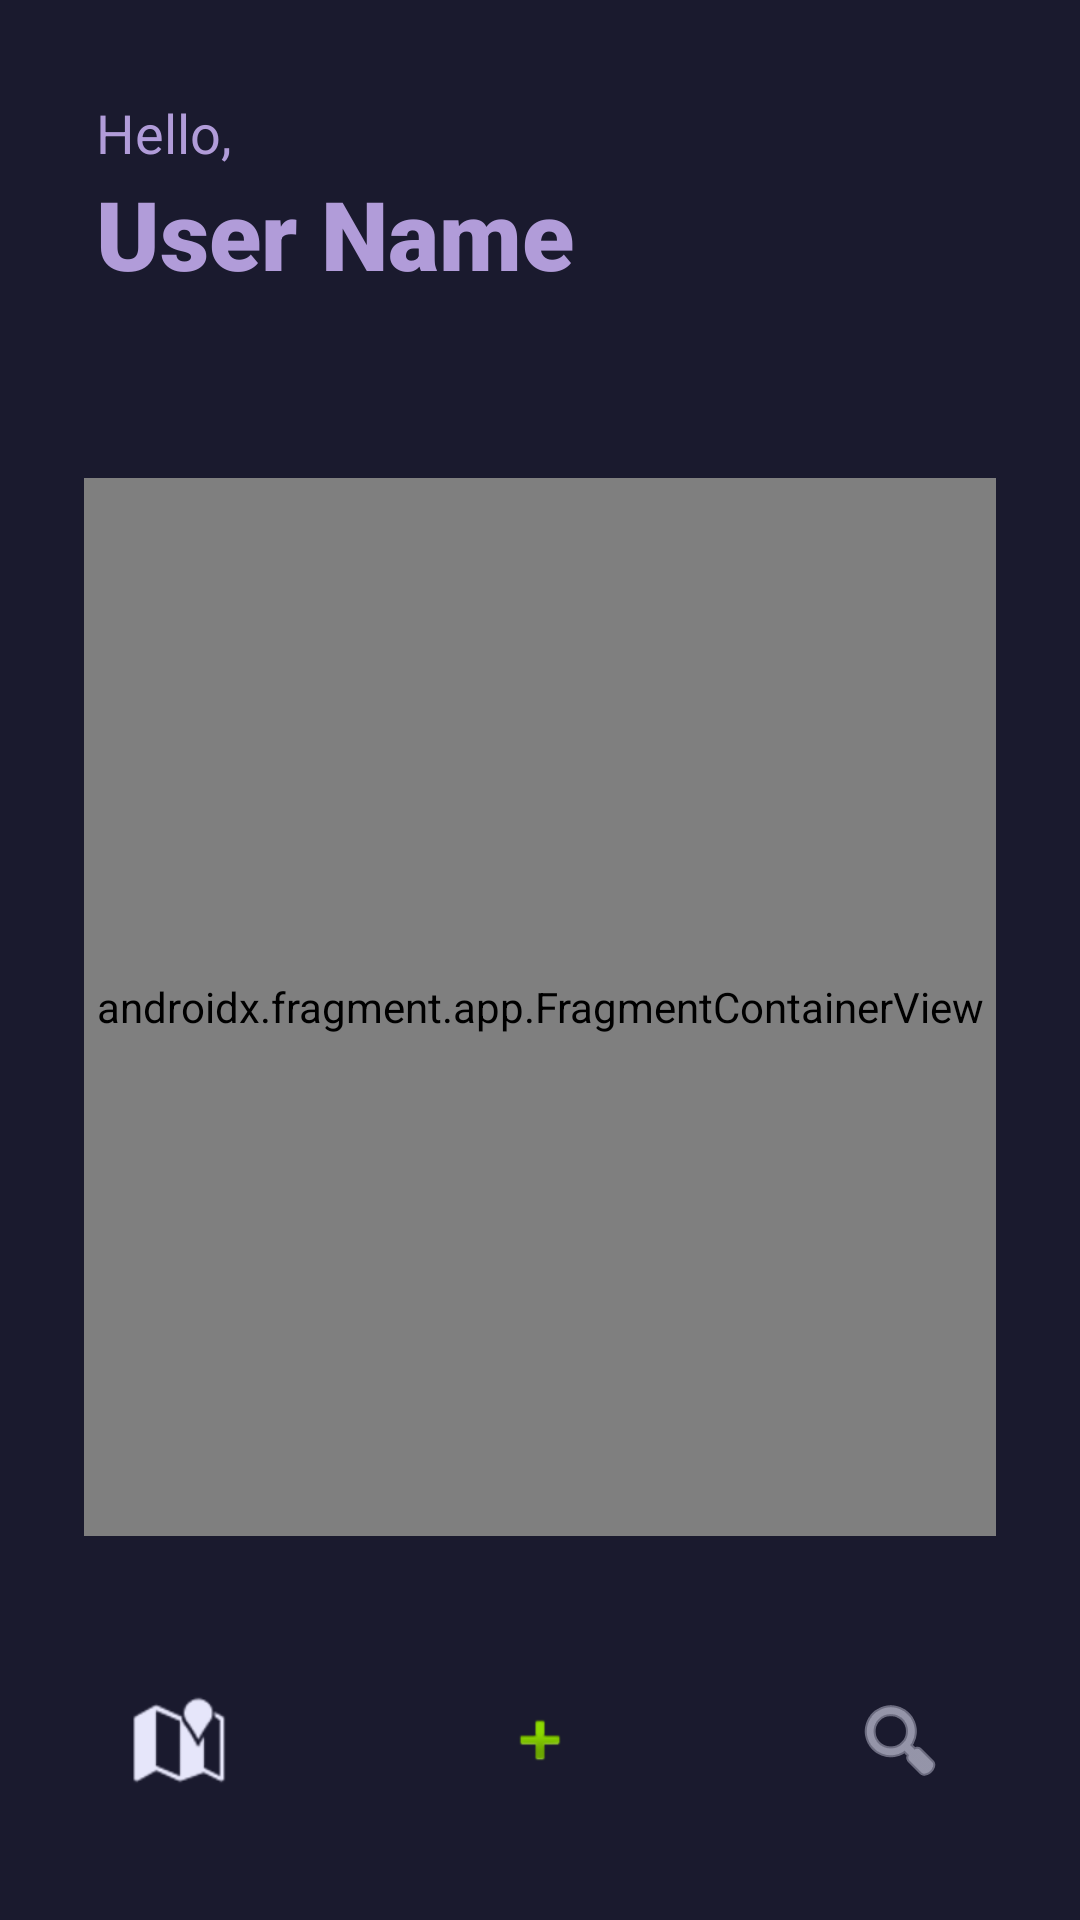

Where to tap for icons on this 1080 x 1920 app screen, as (x=x, y=y):
Add: (x=540, y=1740)
Search: (x=900, y=1740)
